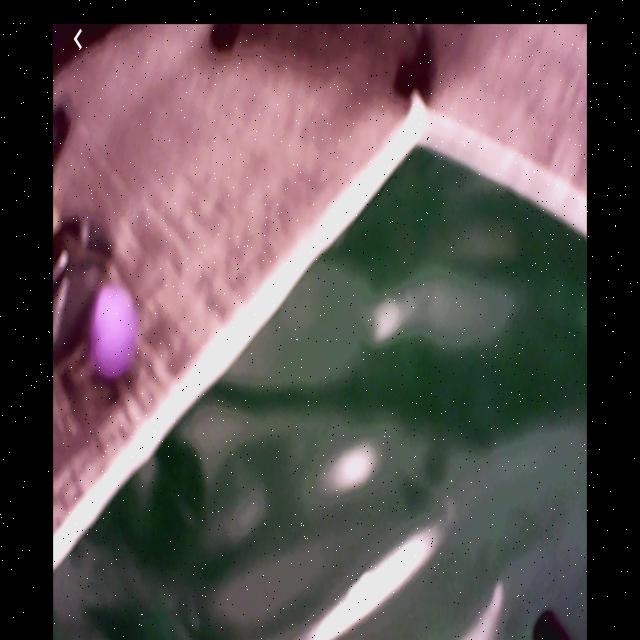ball: (92, 284, 139, 379)
